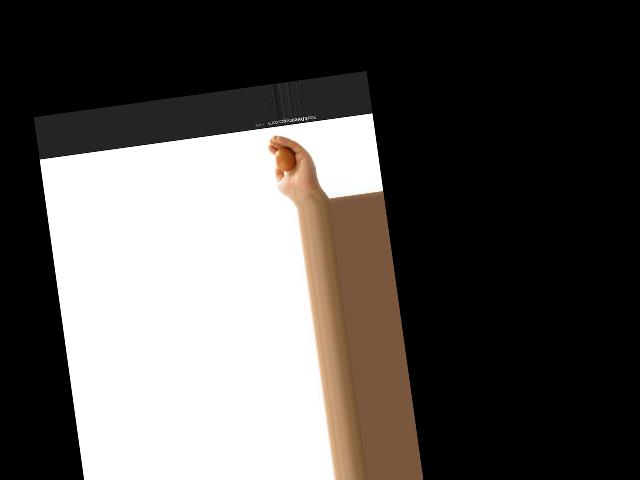egg: (273, 144, 296, 172)
